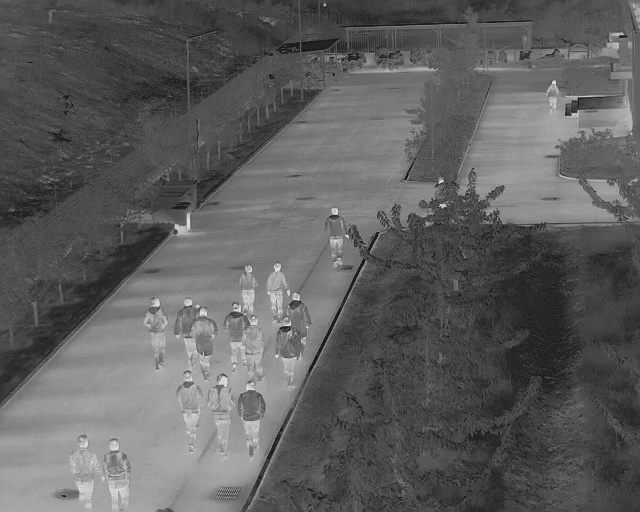person: (68, 433, 103, 511), (101, 437, 134, 512), (174, 370, 203, 453), (237, 379, 264, 459), (208, 374, 233, 455), (274, 316, 300, 391), (142, 295, 167, 369), (191, 306, 216, 379), (223, 301, 247, 375), (242, 313, 267, 383), (323, 205, 349, 270), (174, 297, 197, 365), (285, 292, 309, 341), (267, 261, 288, 315), (239, 264, 258, 315), (545, 78, 558, 112)
